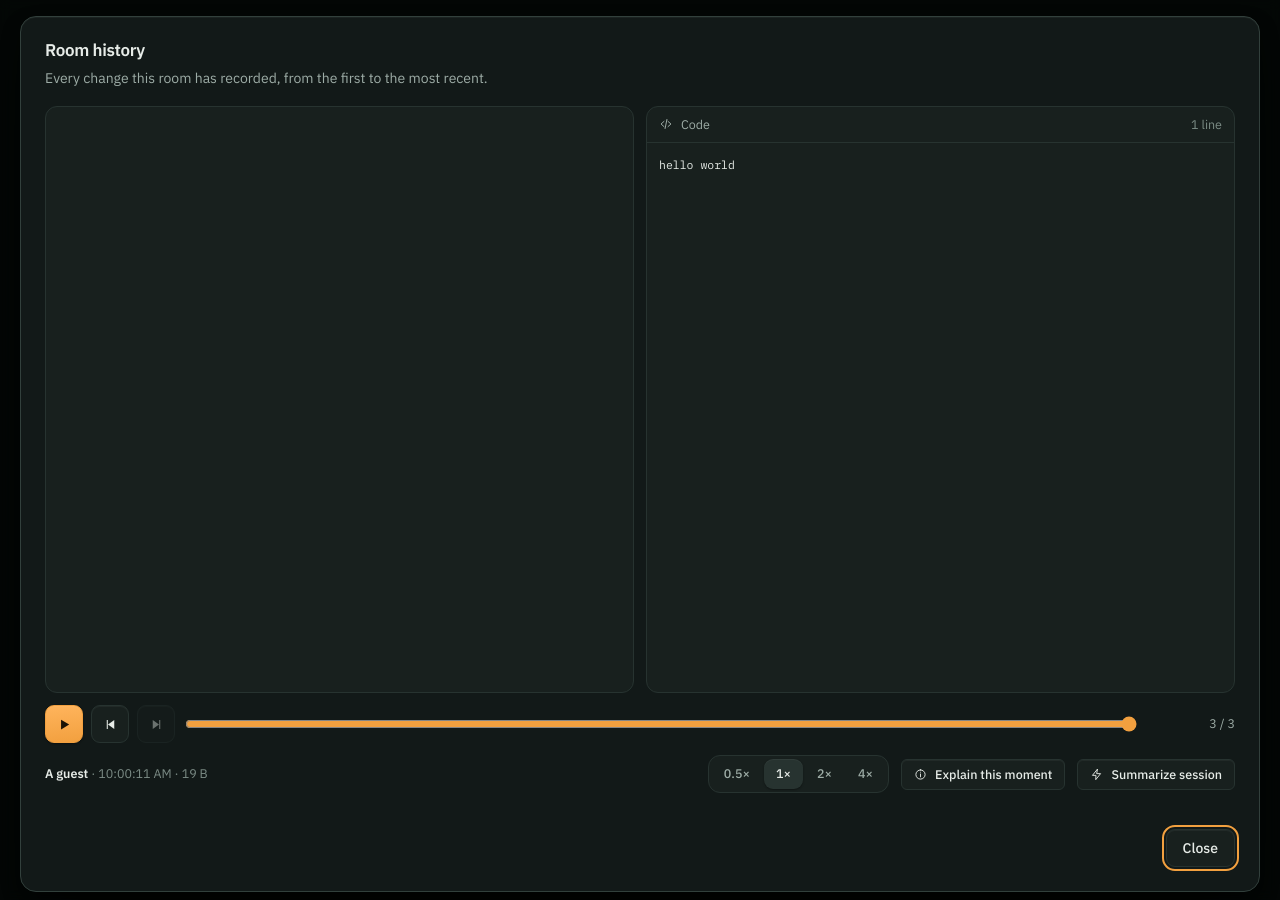
Test case: ReplayViewer › names who made the change, and says when nobody was signed in
Expected: the text "3 / 3" is shown, [1209,715,1235,731]
Expected: the text "A guest" is shown, [45,765,88,781]
Set the slider named "Position in history" to "2" at coordinates (817, 724), box [185,713,1137,735]
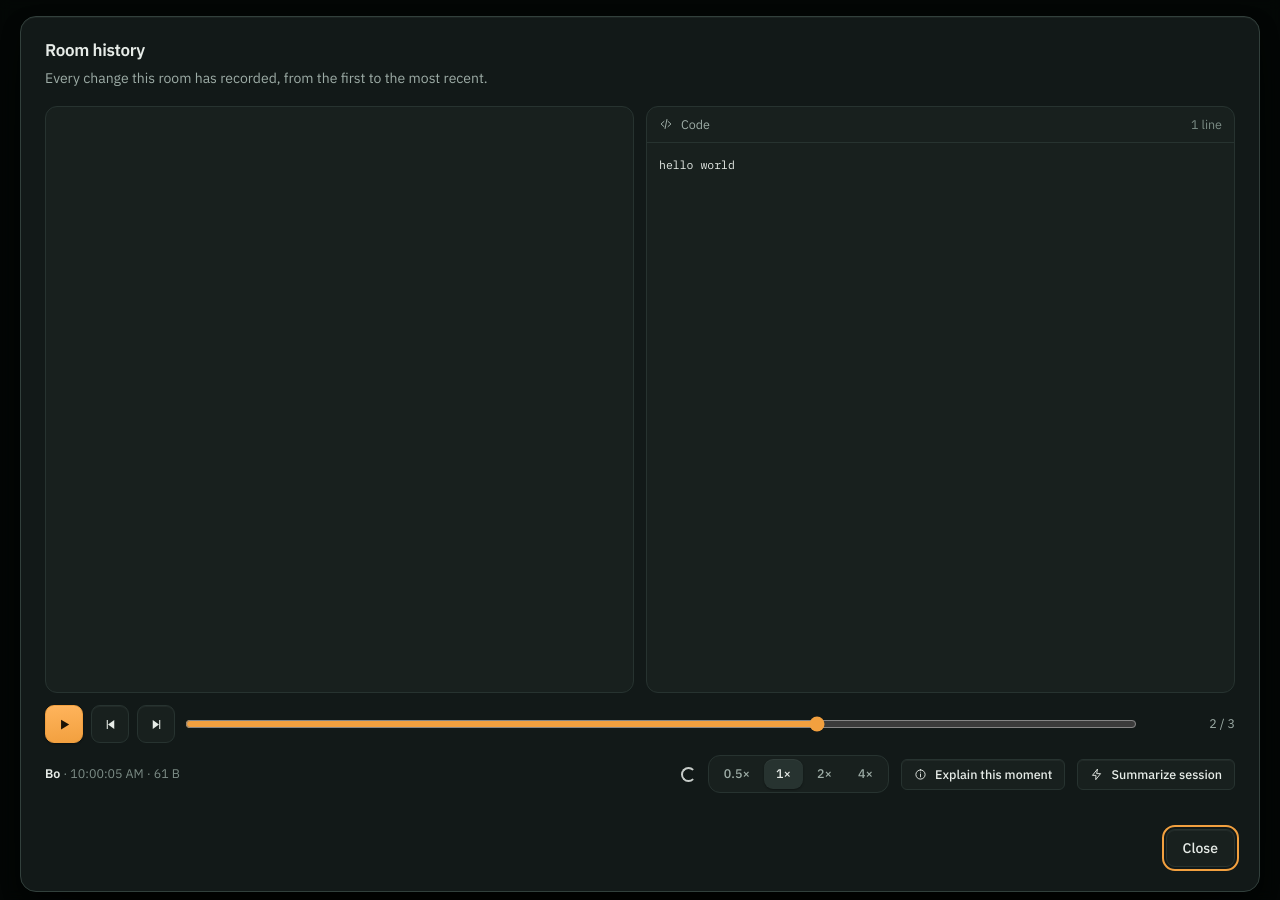
Expected: the text "Bo" is shown, [45,765,60,781]
Set the slider named "Position in history" to "1" at coordinates (505, 724), box [185,713,1137,735]
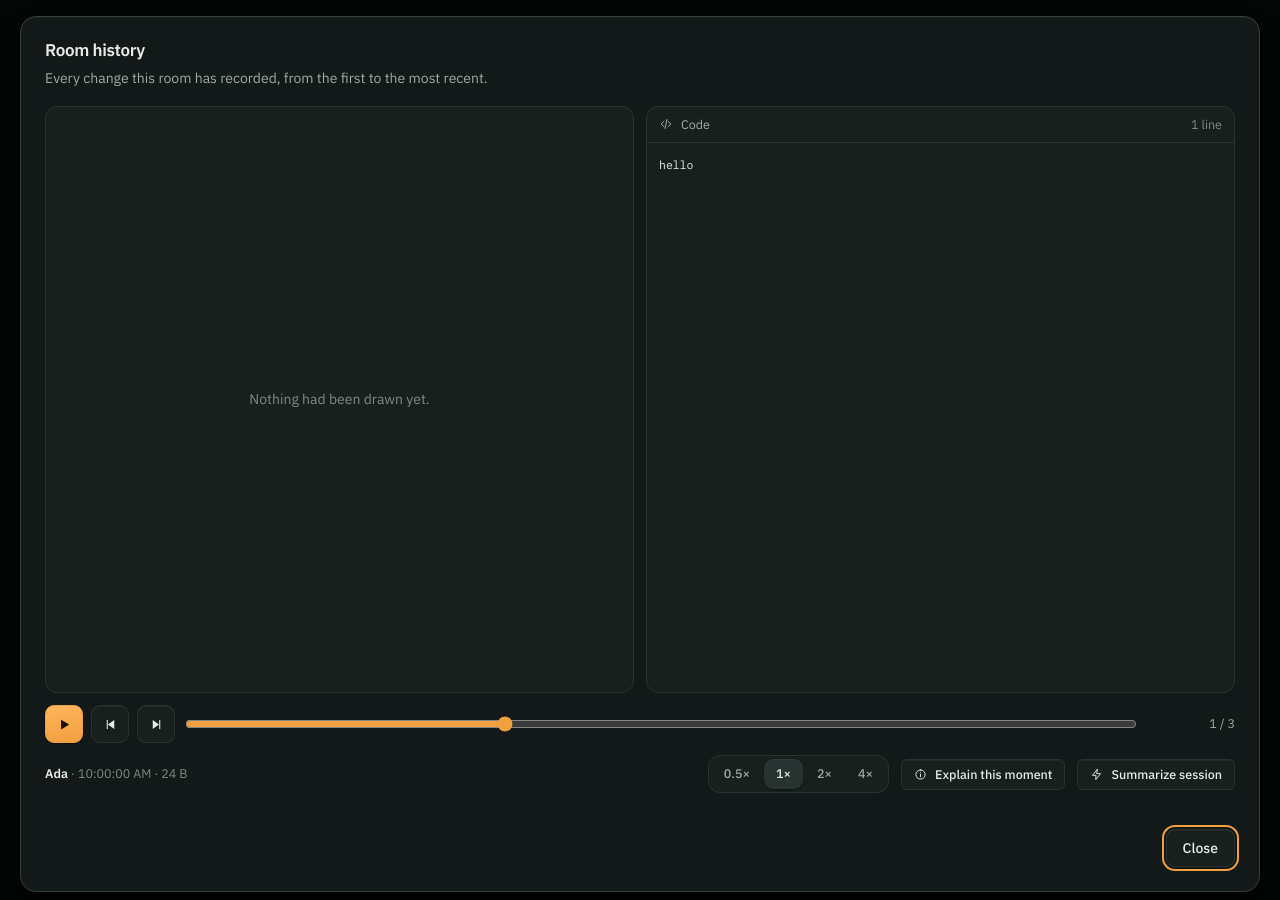
Expected: the text "Ada" is shown, [45,765,68,781]
